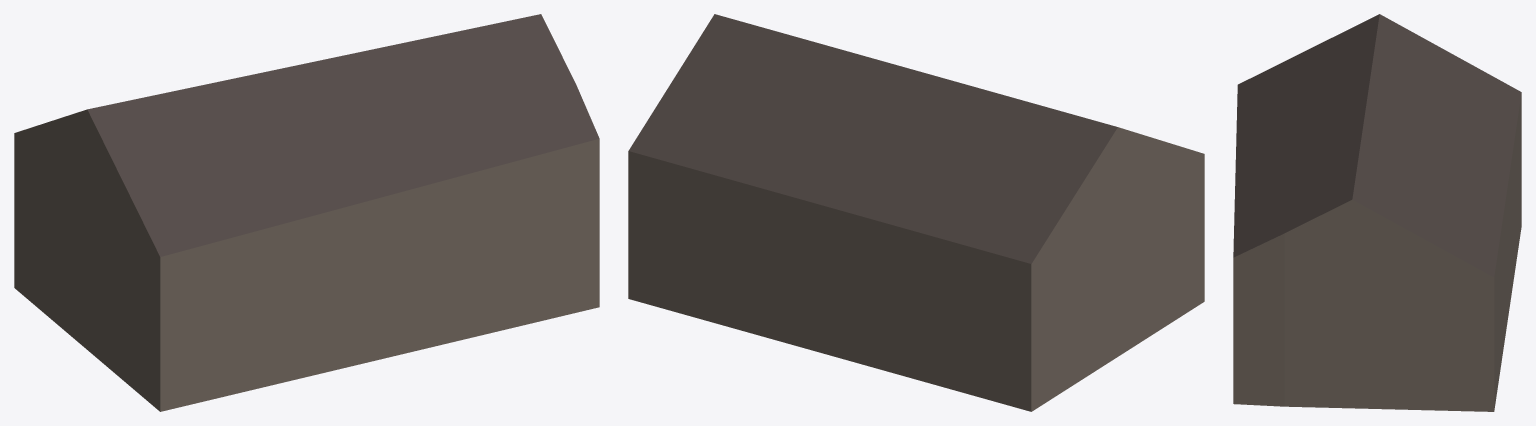
The picture shows the model from 3 angles, left to right: view 1: azimuth 30°, elevation 25°; view 2: azimuth 150°, elevation 25°; view 3: azimuth 270°, elevation 25°; orthographic projection. The views are drawn at different scales.
Visible parts, largest first — view 1: HP-w1198845808; view 2: HP-w1198845808; view 3: HP-w1198845808.
Boxes of the visible parts, <box> form: HP-w1198845808: <box>14,14,599,411</box>; HP-w1198845808: <box>628,14,1204,411</box>; HP-w1198845808: <box>1233,14,1521,411</box>.
Size of the model in its own units: 18.47 by 9.32 by 11.66.
